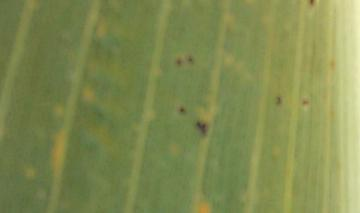tarspot: (194, 119, 208, 138), (301, 98, 310, 108), (275, 95, 283, 106), (174, 57, 183, 66), (178, 105, 186, 114), (187, 56, 194, 64), (309, 1, 316, 8)
